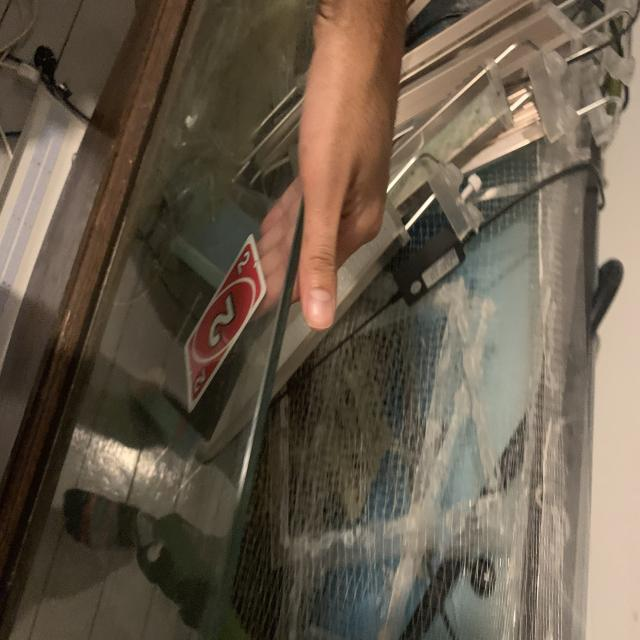lred-2: (235, 245, 255, 276)
